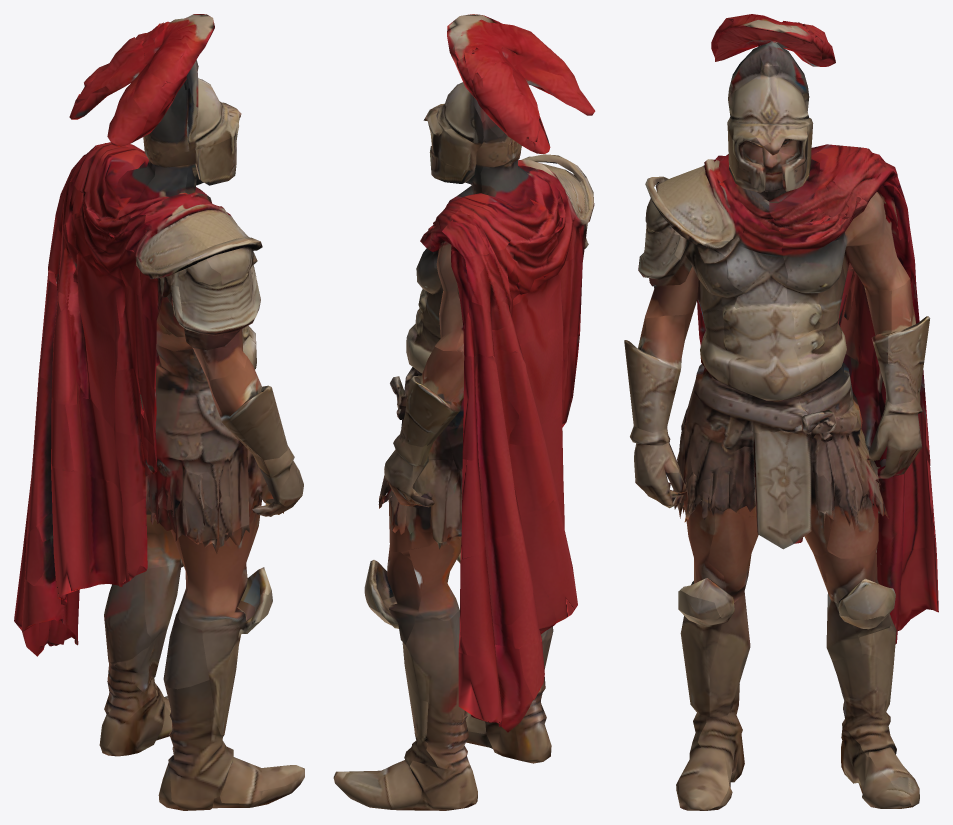
3 views of the same model, side by side, from view 1: azimuth 30°, elevation 25°; view 2: azimuth 150°, elevation 25°; view 3: azimuth 270°, elevation 25° (orthographic). The views are drawn at different scales.
Parts seen in each view (by area): view 1: body; view 2: body; view 3: body.
Part boxes in pixels (x1,y1,x2,y2): body: (14,14,304,810); body: (333,14,595,810); body: (624,14,938,810).
Bounding box in the file's own units: 0.2686 × 0.9992 × 0.3718.
1 material, 1 textured.
